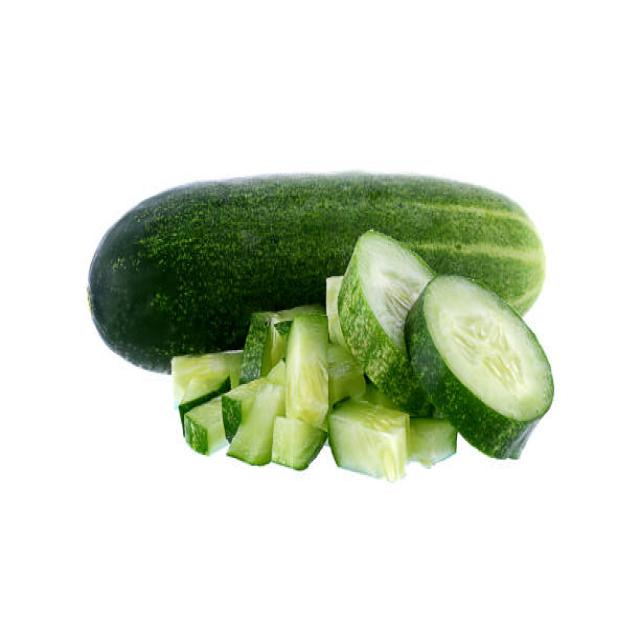cucumber: (89, 168, 546, 380)
